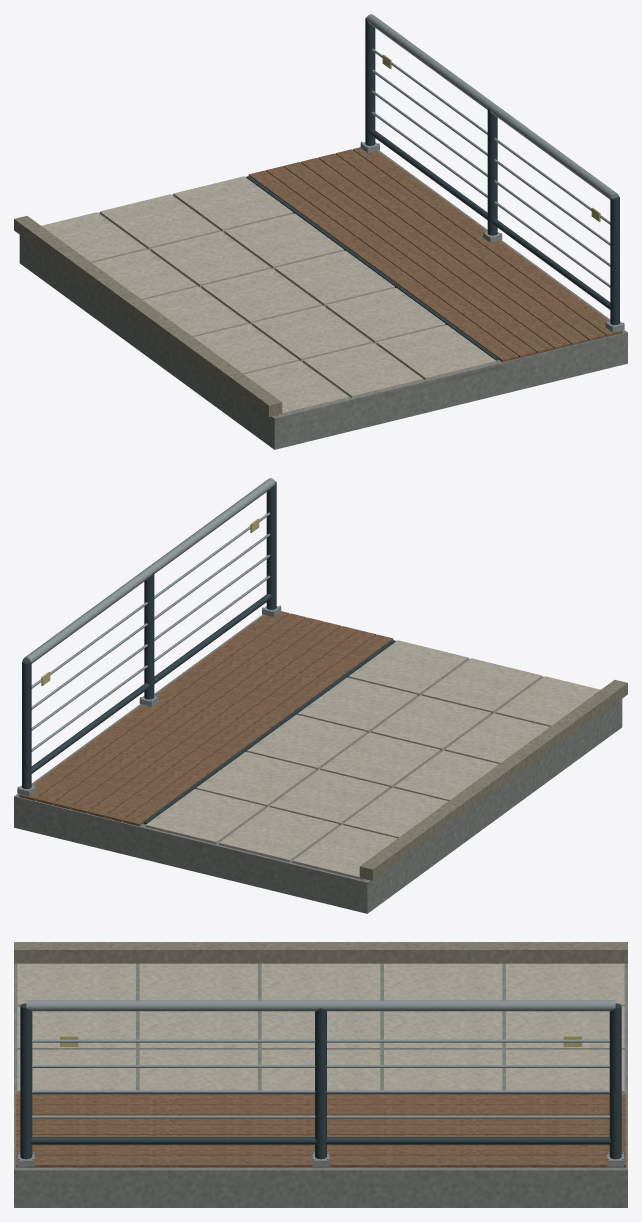
The picture shows the model from 3 angles, top to bottom: view 1: azimuth 30°, elevation 25°; view 2: azimuth 150°, elevation 25°; view 3: azimuth 270°, elevation 25°; orthographic projection. The views are drawn at different scales.
Parts seen in each view (by area): view 1: VIS_VIS_Static_limestone, VIS_VIS_Static_deck_wood, VIS_VIS_Static_concrete, VIS_VIS_Static_brushed_steel, VIS_VIS_Static_powder_steel, VIS_VIS_Static_limestone_dark; view 2: VIS_VIS_Static_limestone, VIS_VIS_Static_deck_wood, VIS_VIS_Static_concrete, VIS_VIS_Static_brushed_steel, VIS_VIS_Static_powder_steel, VIS_VIS_Static_limestone_dark; view 3: VIS_VIS_Static_limestone, VIS_VIS_Static_deck_wood, VIS_VIS_Static_concrete, VIS_VIS_Static_brushed_steel, VIS_VIS_Static_limestone_dark, VIS_VIS_Static_powder_steel.
Part boxes in pixels (x1=…): VIS_VIS_Static_limestone: x1=41, y1=176, x2=496, y2=416; VIS_VIS_Static_deck_wood: x1=248, y1=147, x2=622, y2=362; VIS_VIS_Static_concrete: x1=19, y1=150, x2=627, y2=449; VIS_VIS_Static_brushed_steel: x1=264, y1=14, x2=624, y2=349; VIS_VIS_Static_powder_steel: x1=246, y1=17, x2=619, y2=360; VIS_VIS_Static_limestone_dark: x1=14, y1=216, x2=282, y2=416; VIS_VIS_Static_limestone: x1=145, y1=640, x2=600, y2=880; VIS_VIS_Static_deck_wood: x1=19, y1=611, x2=393, y2=826; VIS_VIS_Static_concrete: x1=14, y1=614, x2=622, y2=913; VIS_VIS_Static_brushed_steel: x1=17, y1=478, x2=377, y2=813; VIS_VIS_Static_powder_steel: x1=22, y1=481, x2=395, y2=824; VIS_VIS_Static_limestone_dark: x1=359, y1=680, x2=627, y2=880; VIS_VIS_Static_limestone: x1=17, y1=963, x2=624, y2=1093; VIS_VIS_Static_deck_wood: x1=15, y1=1094, x2=626, y2=1167; VIS_VIS_Static_concrete: x1=14, y1=963, x2=627, y2=1207; VIS_VIS_Static_brushed_steel: x1=18, y1=1000, x2=623, y2=1166; VIS_VIS_Static_limestone_dark: x1=14, y1=942, x2=627, y2=963; VIS_VIS_Static_powder_steel: x1=20, y1=1003, x2=621, y2=1159.
Bounding box in the file's own units: 3.25 × 1.46 × 4.
8 materials, 8 textured.
